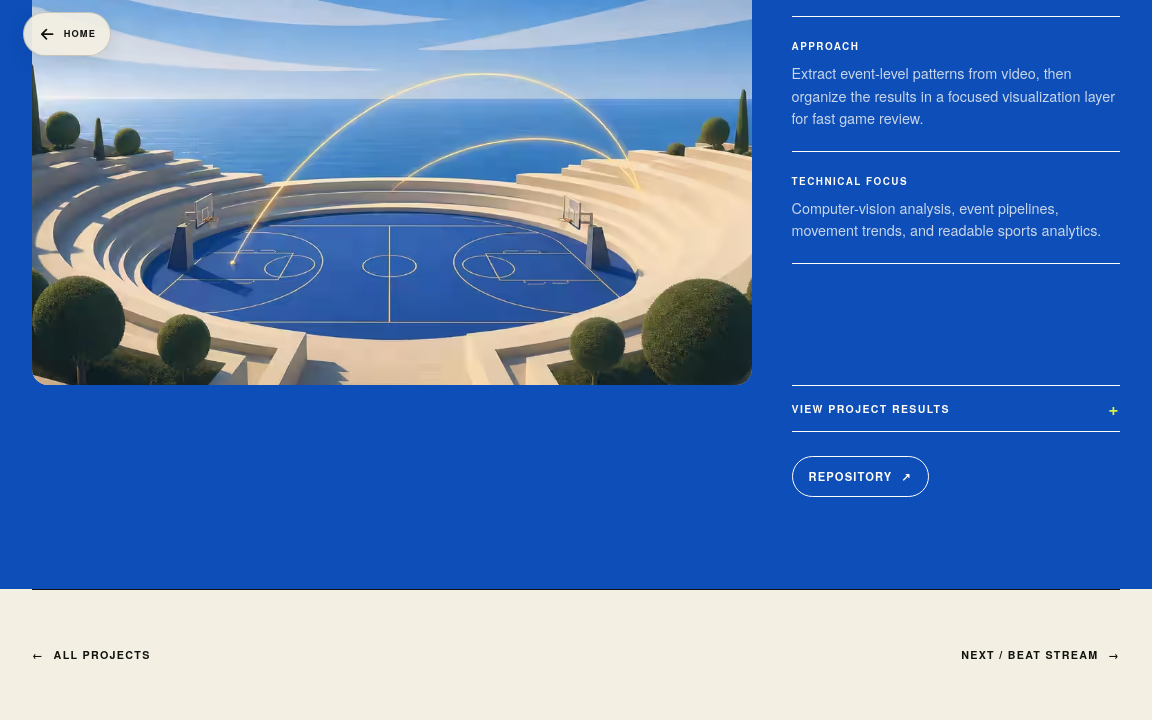
project detail pages › renders the full case study on its dedicated route
(page scrolled)
Expected: the link "Home" is shown, [23,12,111,56]
Click the text "View project results" at (871, 408), box [792,401,950,416]
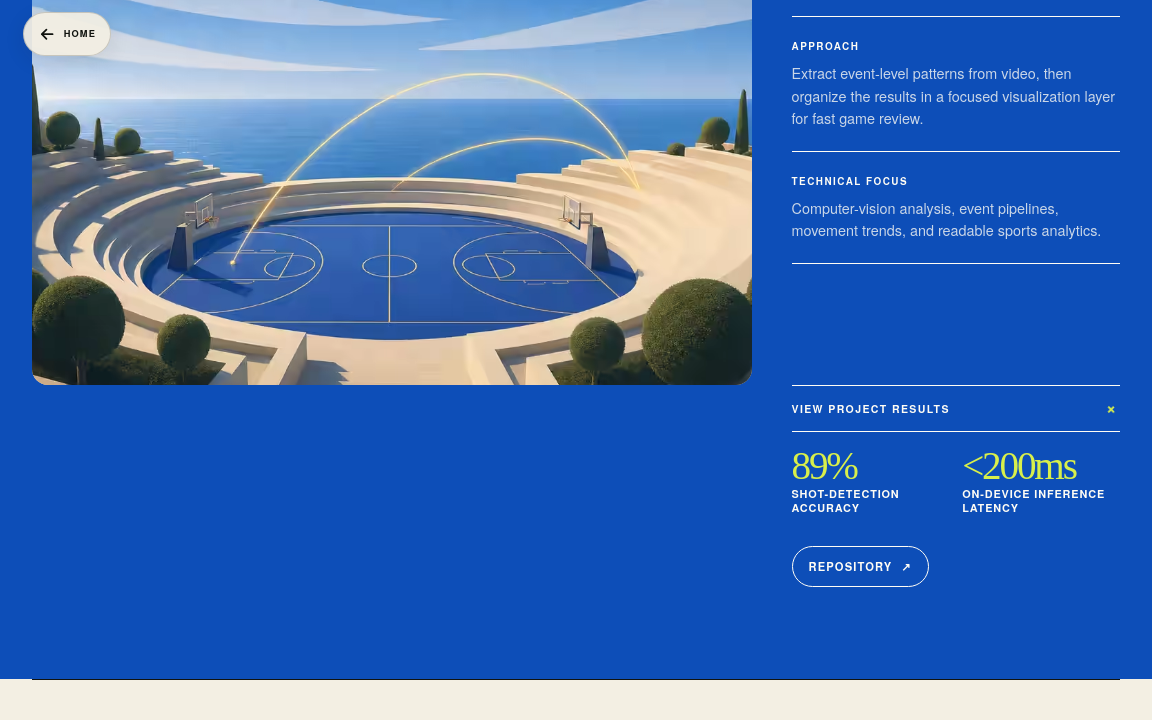
Expected: the text "89%" is shown, [792,444,857,486]
Expected: the text "<200ms" is shown, [962,444,1076,486]
